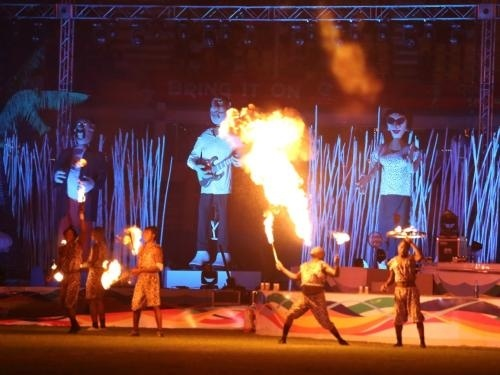fire: (216, 100, 311, 244), (121, 224, 145, 255), (100, 258, 123, 287), (387, 223, 422, 238), (331, 228, 351, 245), (49, 261, 63, 281)
